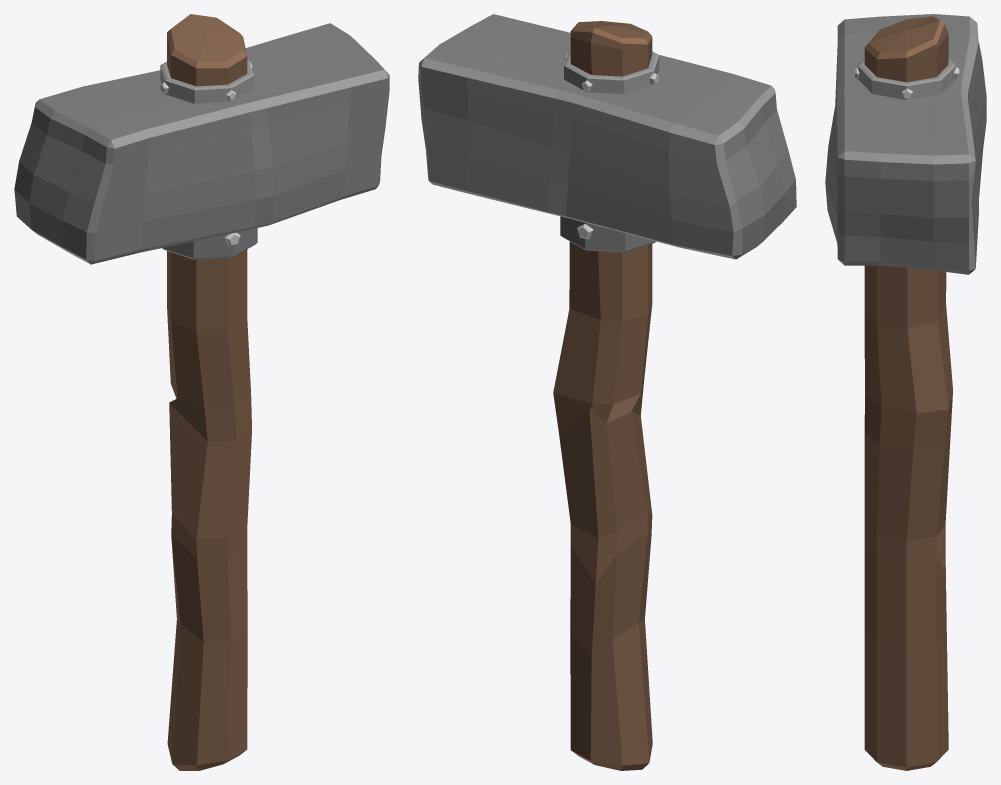
File: Hammer1.fbx
The picture shows the model from 3 angles, left to right: view 1: azimuth 30°, elevation 25°; view 2: azimuth 150°, elevation 25°; view 3: azimuth 270°, elevation 25°; orthographic projection.
Parts seen in each view (by area): view 1: Hammer1; view 2: Hammer1; view 3: Hammer1.
Part boxes in pixels (<box>): Hammer1: <box>14,14,389,770</box>; Hammer1: <box>418,14,796,770</box>; Hammer1: <box>825,14,986,770</box>.
Size of the model in its own units: 29.77 by 64.18 by 12.57.
